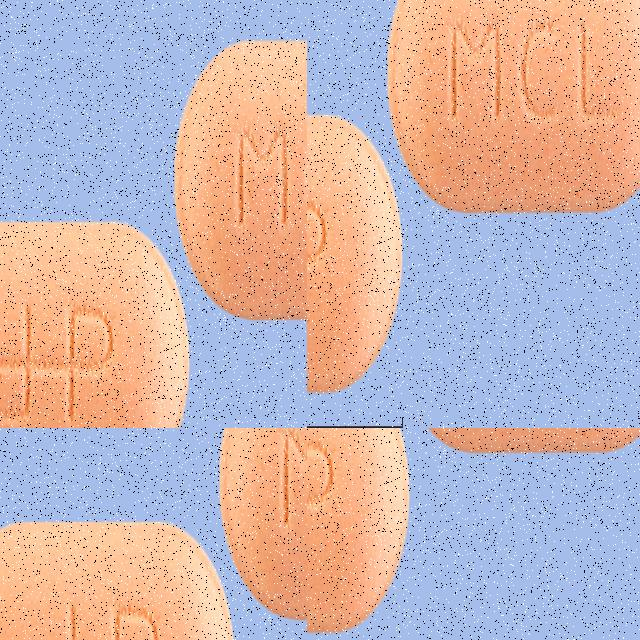Cefix Cap: (142, 33, 307, 269), (0, 266, 231, 428)
Cephamethyl Tab: (307, 428, 413, 640)
Clathrocin -500mg: (307, 222, 451, 428)
Daewoong Bio Clarithromycin: (0, 550, 239, 640), (220, 428, 307, 586)
